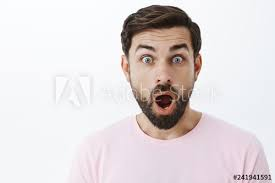white_male: (117, 26, 200, 118)
